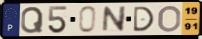0: (77, 5, 100, 35)
5: (47, 5, 69, 35)
D: (132, 5, 156, 33)
N: (101, 5, 128, 34)
O: (156, 5, 182, 34)
Q: (20, 6, 45, 35)
